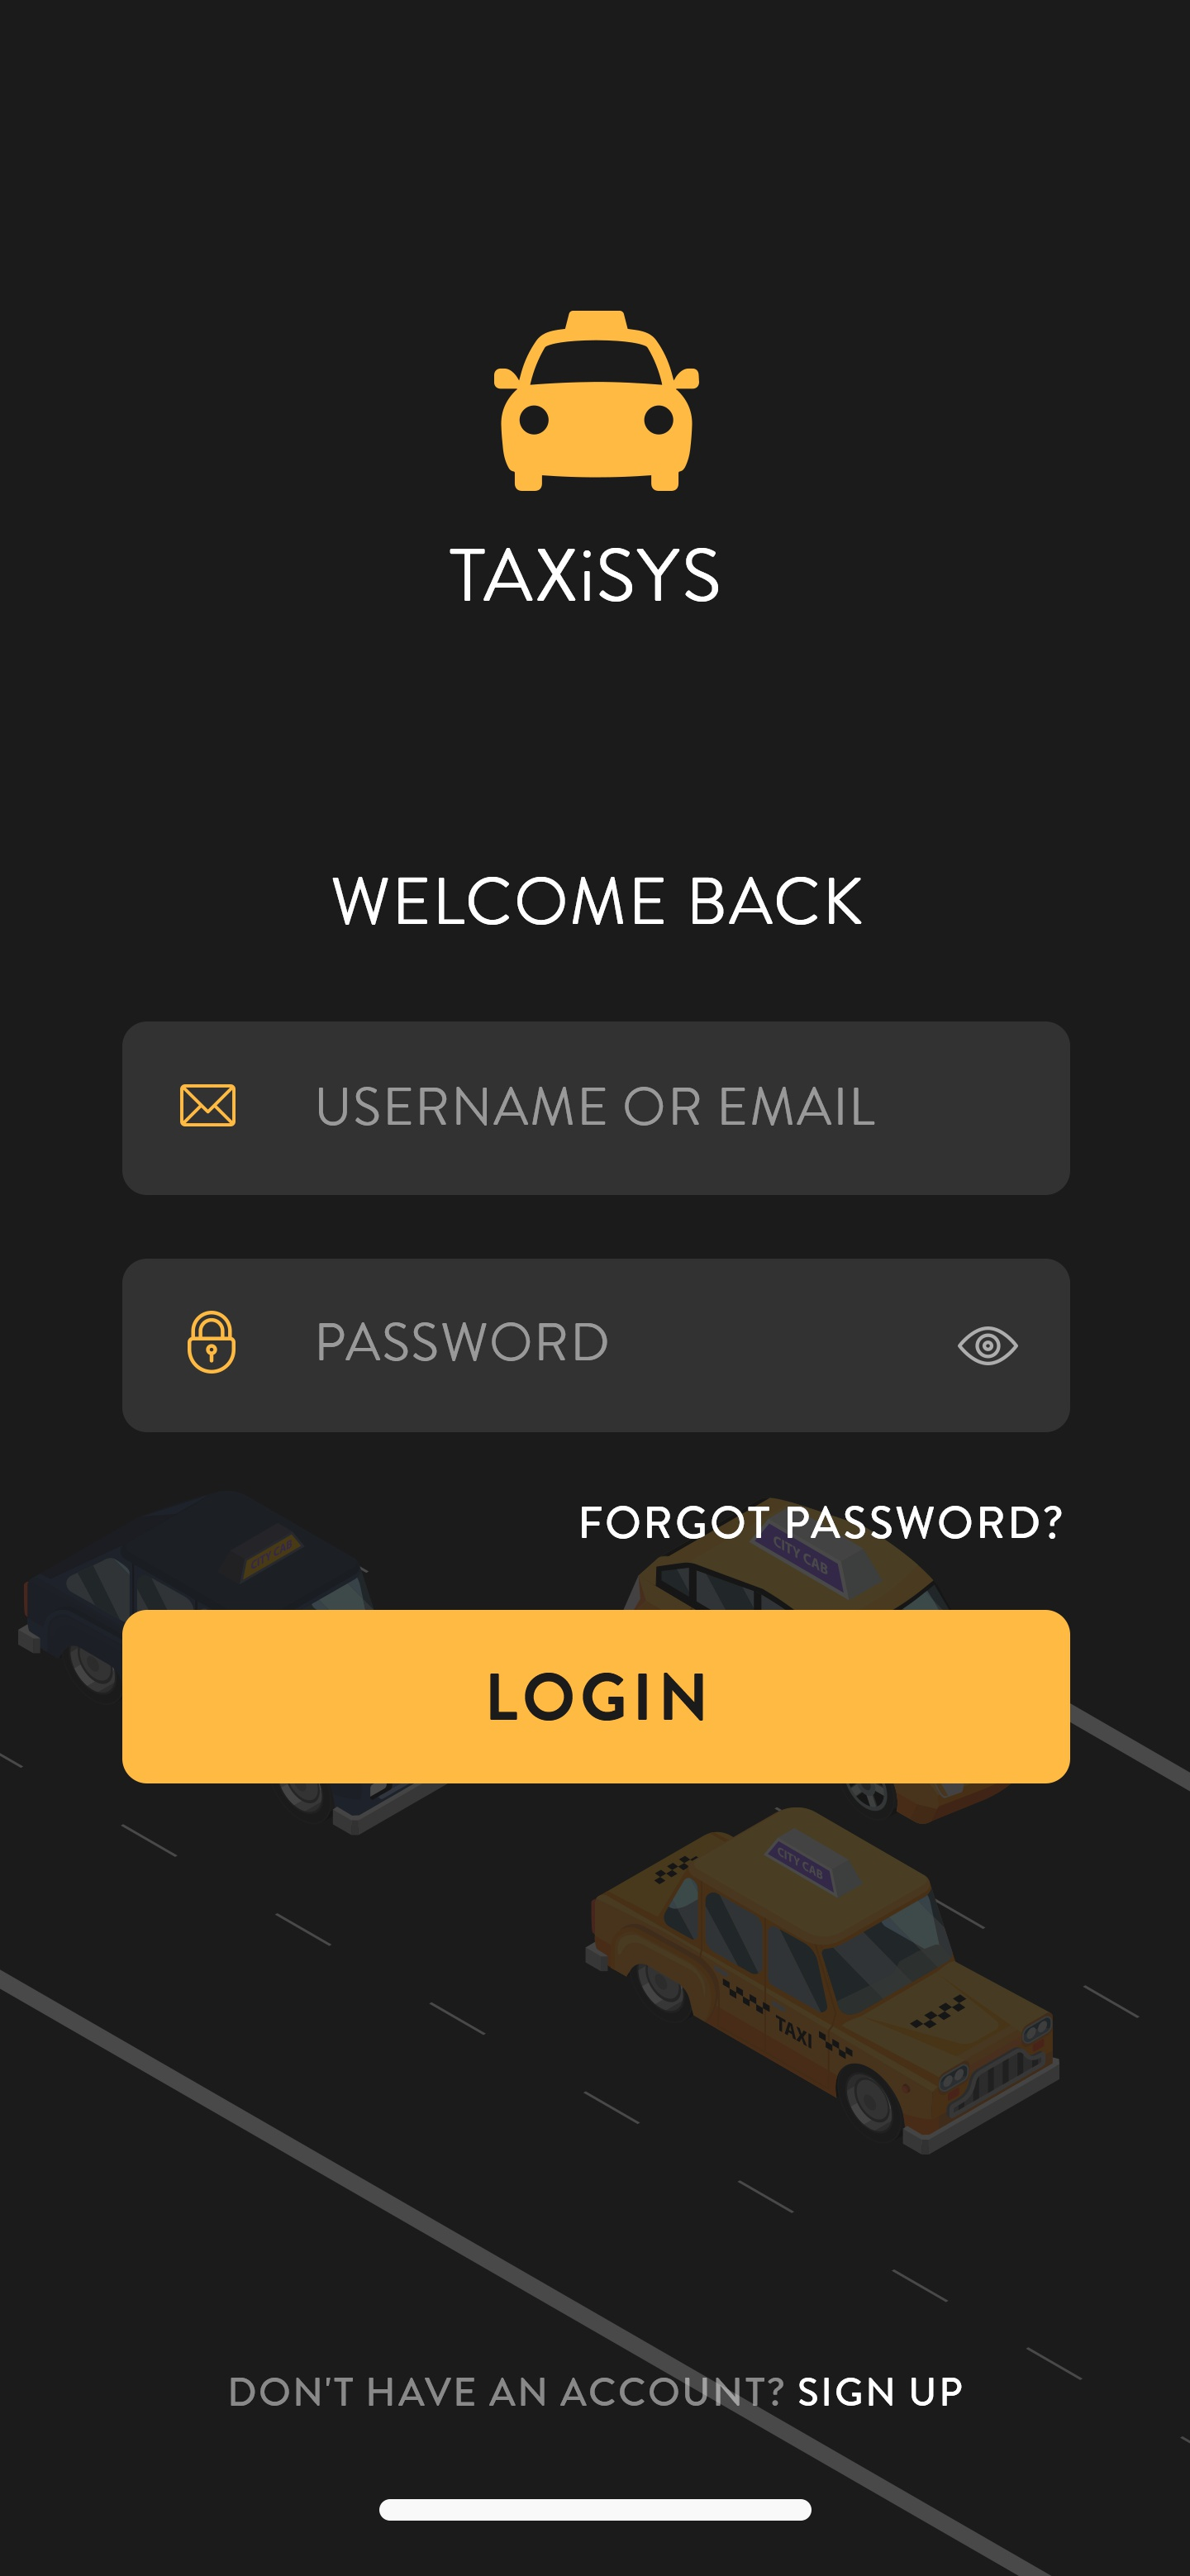BackgroundImage: (2, 3, 1190, 2576)
EditText: (122, 1022, 1072, 1196), (122, 1258, 1072, 1433)
Icon: (187, 1309, 237, 1375), (957, 1326, 1019, 1367), (181, 1084, 237, 1127)
Image: (493, 312, 700, 493)
Text: (332, 877, 863, 927), (319, 1088, 874, 1127), (230, 2377, 963, 2407), (582, 1506, 1063, 1539), (450, 549, 718, 603), (319, 1323, 608, 1362)
TextButton: (122, 1610, 1072, 1784)
